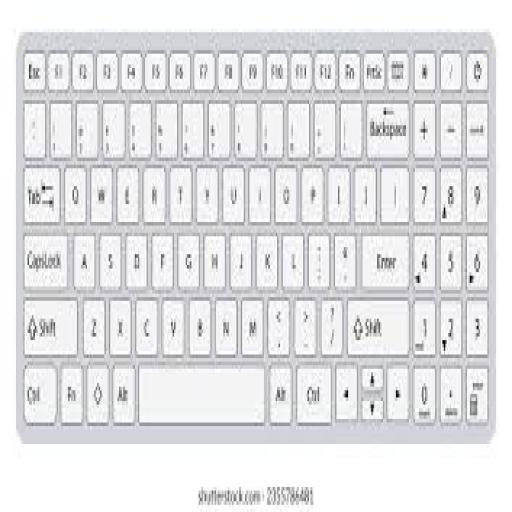KEYBOARD-2: (15, 32, 496, 440)
